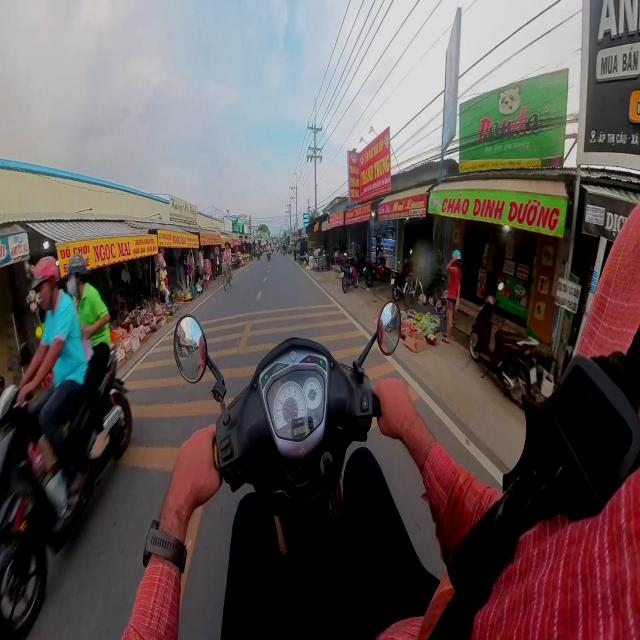motorcycle: (174, 302, 400, 582), (0, 352, 131, 639), (469, 295, 538, 403), (391, 259, 410, 301), (342, 255, 358, 293)
